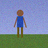person: (14, 10, 26, 38)
